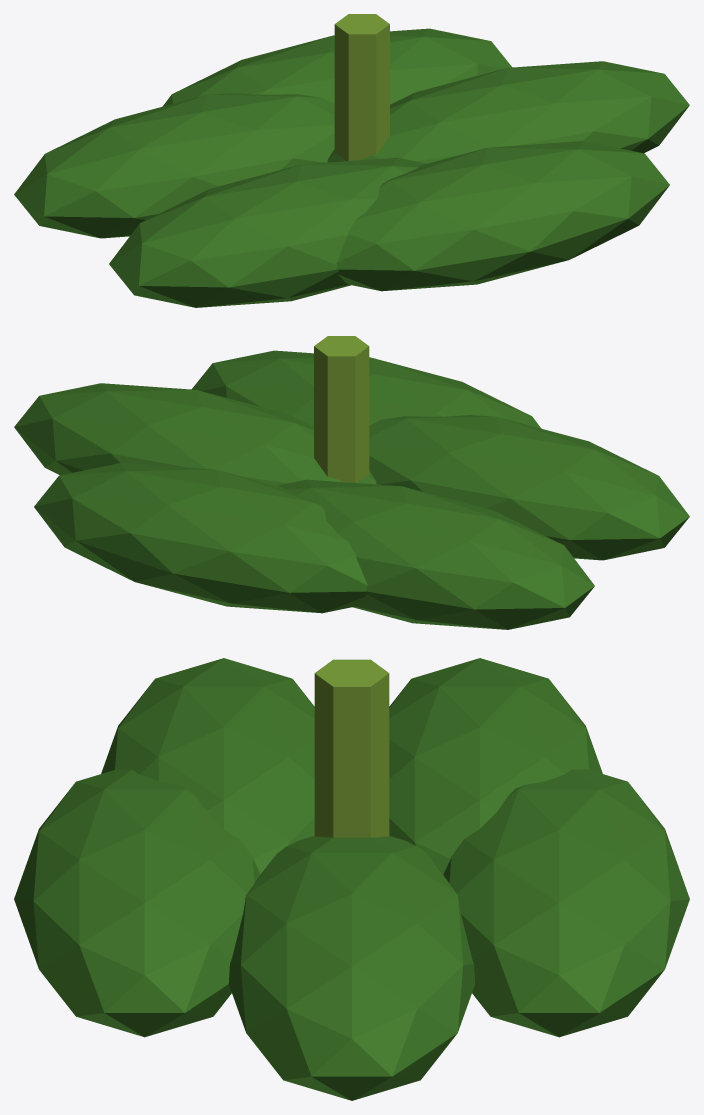
Rendered from Item_Herb.fbx.
The picture shows the model from 3 angles, top to bottom: view 1: azimuth 30°, elevation 25°; view 2: azimuth 150°, elevation 25°; view 3: azimuth 270°, elevation 25°; orthographic projection. The views are drawn at different scales.
Parts seen in each view (by area): view 1: Item_Herb; view 2: Item_Herb; view 3: Item_Herb.
Part boxes in pixels (left/top/right/bottom): Item_Herb: left=14, top=14, right=689, bottom=307; Item_Herb: left=14, top=336, right=689, bottom=629; Item_Herb: left=14, top=658, right=689, bottom=1100.
Size of the model in its own units: 0.2997 by 0.12 by 0.2171.
